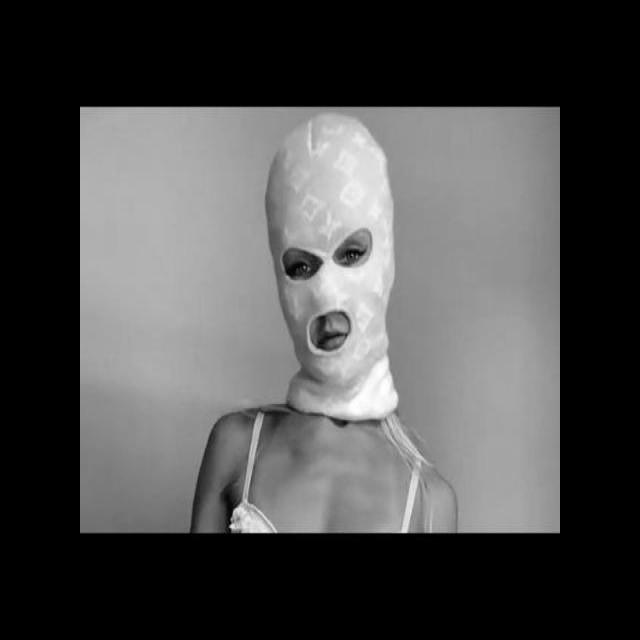6_pasamontana: (264, 112, 398, 420)
